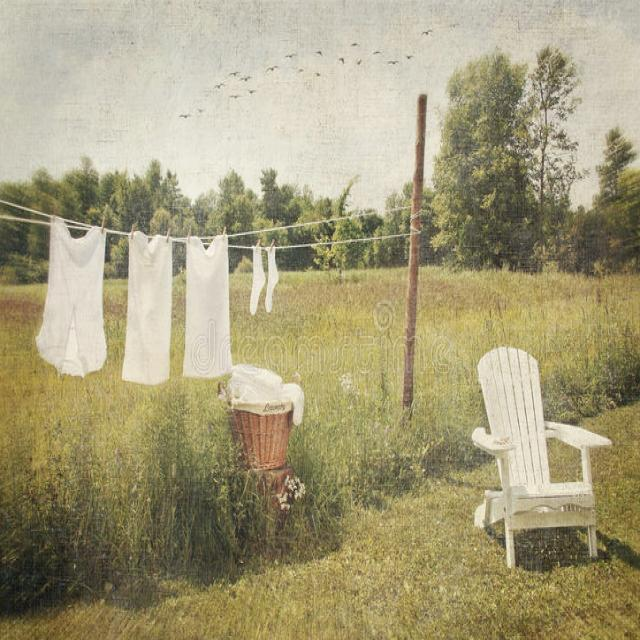clothes: (36, 212, 110, 376), (119, 229, 177, 395), (184, 224, 235, 386), (248, 236, 278, 320)
